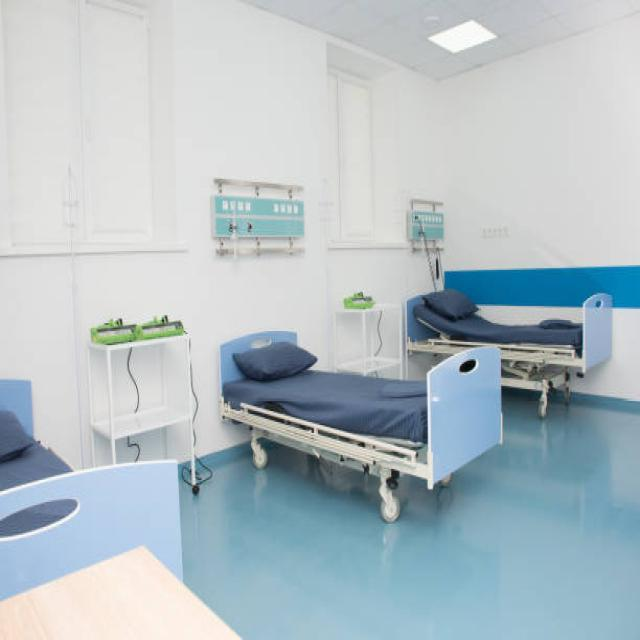bed: (218, 328, 503, 522), (0, 373, 187, 640), (404, 287, 612, 417)
